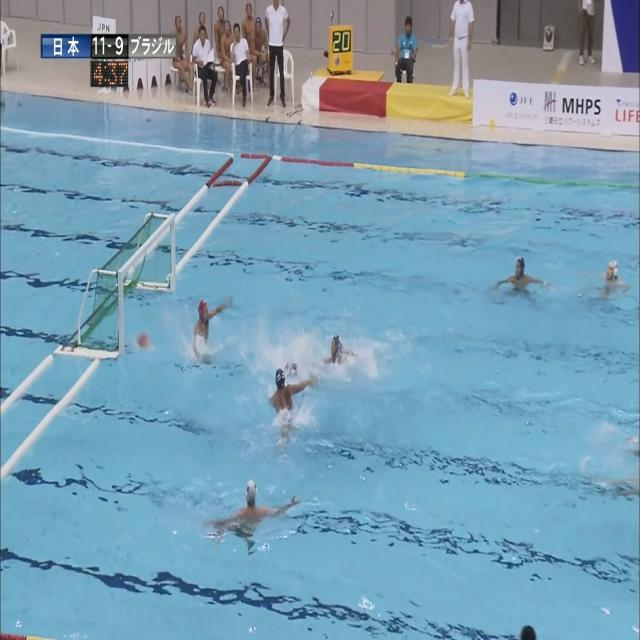ball: (137, 333, 150, 348)
